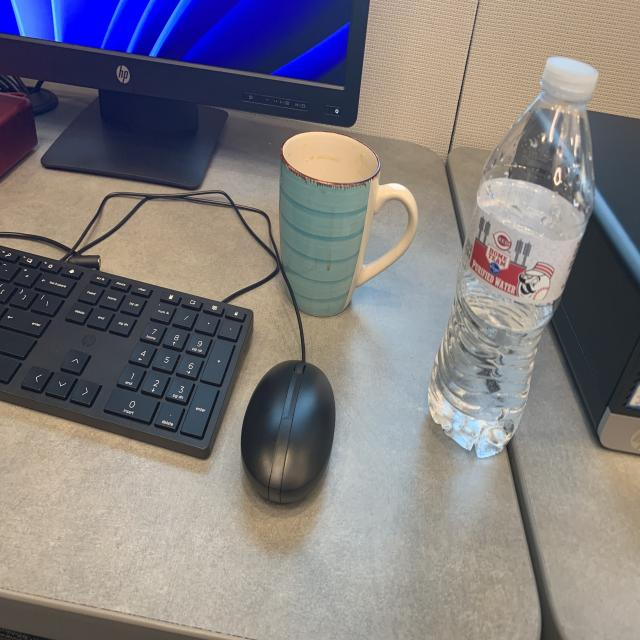Cup: (275, 124, 415, 324)
Mouse: (238, 352, 344, 514)
